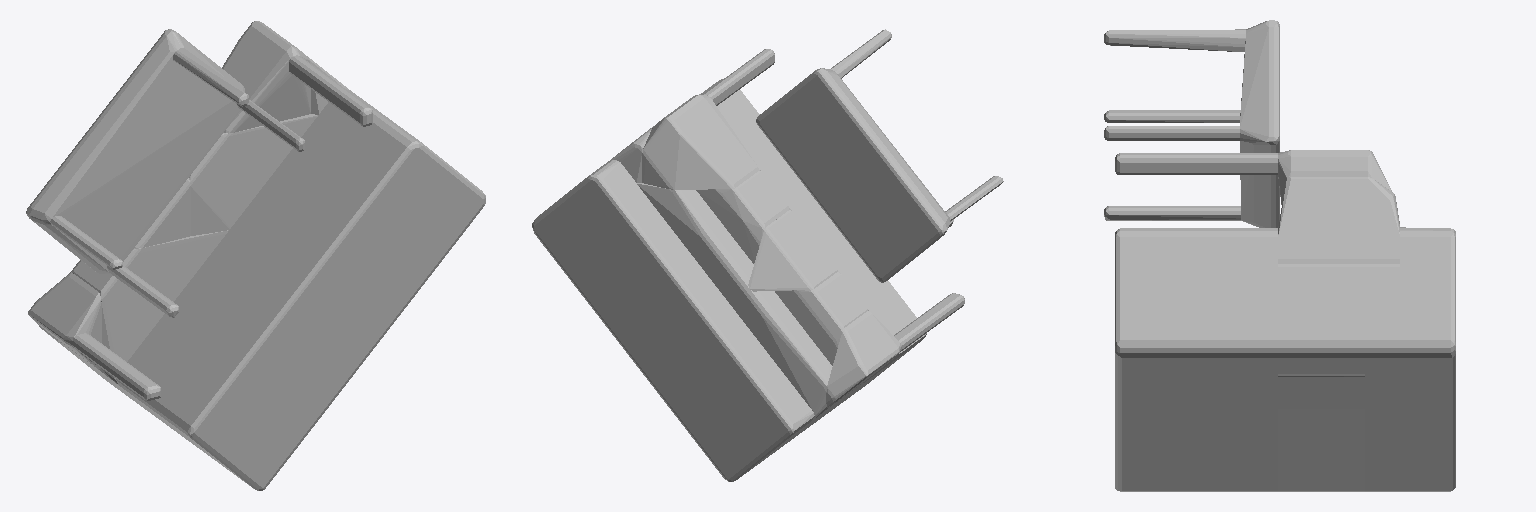
The robot description file, URDF, robot "root":
<robot name="root">
  <link name="link_coacd_convex_piece_0">
    <inertial>
      <origin xyz="0 0 0" rpy="0 0 0"/>
      <inertia ixx="4.72E-02" ixy="1.17E-02" ixz="1.36E-02" iyy="4.71E-02" iyz="1.44E-02" izz="4.85E-02"/>
    </inertial>
    <visual>
      <origin xyz="0 0 0" rpy="0 0 0"/>
      <geometry>
        <mesh filename="coacd_convex_piece_0.obj" scale="1.0000E+00 1.0000E+00 1.0000E+00"/>
      </geometry>
      <material name="">
        <color rgba="7.50E-01 7.50E-01 7.50E-01 1"/>
      </material>
    </visual>
    <collision>
      <origin xyz="0 0 0" rpy="0 0 0"/>
      <geometry>
        <mesh filename="coacd_convex_piece_0.obj" scale="1.0000E+00 1.0000E+00 1.0000E+00"/>
      </geometry>
    </collision>
  </link>
  <link name="link_coacd_convex_piece_1">
    <inertial>
      <origin xyz="0 0 0" rpy="0 0 0"/>
      <inertia ixx="5.15E-03" ixy="-3.08E-03" ixz="-5.63E-04" iyy="4.97E-03" iyz="-5.69E-04" izz="9.88E-03"/>
    </inertial>
    <visual>
      <origin xyz="0 0 0" rpy="0 0 0"/>
      <geometry>
        <mesh filename="coacd_convex_piece_1.obj" scale="1.0000E+00 1.0000E+00 1.0000E+00"/>
      </geometry>
      <material name="">
        <color rgba="7.50E-01 7.50E-01 7.50E-01 1"/>
      </material>
    </visual>
    <collision>
      <origin xyz="0 0 0" rpy="0 0 0"/>
      <geometry>
        <mesh filename="coacd_convex_piece_1.obj" scale="1.0000E+00 1.0000E+00 1.0000E+00"/>
      </geometry>
    </collision>
  </link>
  <joint name="link_coacd_convex_piece_1_joint" type="fixed">
    <origin xyz="0 0 0" rpy="0 0 0"/>
    <parent link="link_coacd_convex_piece_0"/>
    <child link="link_coacd_convex_piece_1"/>
  </joint>
  <link name="link_coacd_convex_piece_2">
    <inertial>
      <origin xyz="0 0 0" rpy="0 0 0"/>
      <inertia ixx="2.71E-02" ixy="3.94E-03" ixz="-7.13E-03" iyy="2.71E-02" iyz="-7.42E-03" izz="1.64E-02"/>
    </inertial>
    <visual>
      <origin xyz="0 0 0" rpy="0 0 0"/>
      <geometry>
        <mesh filename="coacd_convex_piece_2.obj" scale="1.0000E+00 1.0000E+00 1.0000E+00"/>
      </geometry>
      <material name="">
        <color rgba="7.50E-01 7.50E-01 7.50E-01 1"/>
      </material>
    </visual>
    <collision>
      <origin xyz="0 0 0" rpy="0 0 0"/>
      <geometry>
        <mesh filename="coacd_convex_piece_2.obj" scale="1.0000E+00 1.0000E+00 1.0000E+00"/>
      </geometry>
    </collision>
  </link>
  <joint name="link_coacd_convex_piece_2_joint" type="fixed">
    <origin xyz="0 0 0" rpy="0 0 0"/>
    <parent link="link_coacd_convex_piece_1"/>
    <child link="link_coacd_convex_piece_2"/>
  </joint>
  <link name="link_coacd_convex_piece_3">
    <inertial>
      <origin xyz="0 0 0" rpy="0 0 0"/>
      <inertia ixx="7.41E-04" ixy="1.13E-03" ixz="5.20E-04" iyy="1.67E-03" iyz="-2.93E-04" izz="2.01E-03"/>
    </inertial>
    <visual>
      <origin xyz="0 0 0" rpy="0 0 0"/>
      <geometry>
        <mesh filename="coacd_convex_piece_3.obj" scale="1.0000E+00 1.0000E+00 1.0000E+00"/>
      </geometry>
      <material name="">
        <color rgba="7.50E-01 7.50E-01 7.50E-01 1"/>
      </material>
    </visual>
    <collision>
      <origin xyz="0 0 0" rpy="0 0 0"/>
      <geometry>
        <mesh filename="coacd_convex_piece_3.obj" scale="1.0000E+00 1.0000E+00 1.0000E+00"/>
      </geometry>
    </collision>
  </link>
  <joint name="link_coacd_convex_piece_3_joint" type="fixed">
    <origin xyz="0 0 0" rpy="0 0 0"/>
    <parent link="link_coacd_convex_piece_2"/>
    <child link="link_coacd_convex_piece_3"/>
  </joint>
  <link name="link_coacd_convex_piece_4">
    <inertial>
      <origin xyz="0 0 0" rpy="0 0 0"/>
      <inertia ixx="2.45E-04" ixy="2.84E-04" ixz="-2.02E-04" iyy="5.45E-04" iyz="1.27E-04" izz="5.35E-04"/>
    </inertial>
    <visual>
      <origin xyz="0 0 0" rpy="0 0 0"/>
      <geometry>
        <mesh filename="coacd_convex_piece_4.obj" scale="1.0000E+00 1.0000E+00 1.0000E+00"/>
      </geometry>
      <material name="">
        <color rgba="7.50E-01 7.50E-01 7.50E-01 1"/>
      </material>
    </visual>
    <collision>
      <origin xyz="0 0 0" rpy="0 0 0"/>
      <geometry>
        <mesh filename="coacd_convex_piece_4.obj" scale="1.0000E+00 1.0000E+00 1.0000E+00"/>
      </geometry>
    </collision>
  </link>
  <joint name="link_coacd_convex_piece_4_joint" type="fixed">
    <origin xyz="0 0 0" rpy="0 0 0"/>
    <parent link="link_coacd_convex_piece_3"/>
    <child link="link_coacd_convex_piece_4"/>
  </joint>
  <link name="link_coacd_convex_piece_5">
    <inertial>
      <origin xyz="0 0 0" rpy="0 0 0"/>
      <inertia ixx="1.92E-04" ixy="1.48E-05" ixz="5.39E-06" iyy="5.74E-05" iyz="-8.74E-05" izz="1.16E-04"/>
    </inertial>
    <visual>
      <origin xyz="0 0 0" rpy="0 0 0"/>
      <geometry>
        <mesh filename="coacd_convex_piece_5.obj" scale="1.0000E+00 1.0000E+00 1.0000E+00"/>
      </geometry>
      <material name="">
        <color rgba="7.50E-01 7.50E-01 7.50E-01 1"/>
      </material>
    </visual>
    <collision>
      <origin xyz="0 0 0" rpy="0 0 0"/>
      <geometry>
        <mesh filename="coacd_convex_piece_5.obj" scale="1.0000E+00 1.0000E+00 1.0000E+00"/>
      </geometry>
    </collision>
  </link>
  <joint name="link_coacd_convex_piece_5_joint" type="fixed">
    <origin xyz="0 0 0" rpy="0 0 0"/>
    <parent link="link_coacd_convex_piece_4"/>
    <child link="link_coacd_convex_piece_5"/>
  </joint>
  <link name="link_coacd_convex_piece_6">
    <inertial>
      <origin xyz="0 0 0" rpy="0 0 0"/>
      <inertia ixx="3.00E-03" ixy="2.02E-03" ixz="-6.09E-04" iyy="1.41E-03" iyz="1.13E-03" izz="3.35E-03"/>
    </inertial>
    <visual>
      <origin xyz="0 0 0" rpy="0 0 0"/>
      <geometry>
        <mesh filename="coacd_convex_piece_6.obj" scale="1.0000E+00 1.0000E+00 1.0000E+00"/>
      </geometry>
      <material name="">
        <color rgba="7.50E-01 7.50E-01 7.50E-01 1"/>
      </material>
    </visual>
    <collision>
      <origin xyz="0 0 0" rpy="0 0 0"/>
      <geometry>
        <mesh filename="coacd_convex_piece_6.obj" scale="1.0000E+00 1.0000E+00 1.0000E+00"/>
      </geometry>
    </collision>
  </link>
  <joint name="link_coacd_convex_piece_6_joint" type="fixed">
    <origin xyz="0 0 0" rpy="0 0 0"/>
    <parent link="link_coacd_convex_piece_5"/>
    <child link="link_coacd_convex_piece_6"/>
  </joint>
  <link name="link_coacd_convex_piece_7">
    <inertial>
      <origin xyz="0 0 0" rpy="0 0 0"/>
      <inertia ixx="1.30E-02" ixy="3.36E-03" ixz="-2.71E-03" iyy="1.29E-02" iyz="-3.63E-03" izz="1.14E-02"/>
    </inertial>
    <visual>
      <origin xyz="0 0 0" rpy="0 0 0"/>
      <geometry>
        <mesh filename="coacd_convex_piece_7.obj" scale="1.0000E+00 1.0000E+00 1.0000E+00"/>
      </geometry>
      <material name="">
        <color rgba="7.50E-01 7.50E-01 7.50E-01 1"/>
      </material>
    </visual>
    <collision>
      <origin xyz="0 0 0" rpy="0 0 0"/>
      <geometry>
        <mesh filename="coacd_convex_piece_7.obj" scale="1.0000E+00 1.0000E+00 1.0000E+00"/>
      </geometry>
    </collision>
  </link>
  <joint name="link_coacd_convex_piece_7_joint" type="fixed">
    <origin xyz="0 0 0" rpy="0 0 0"/>
    <parent link="link_coacd_convex_piece_6"/>
    <child link="link_coacd_convex_piece_7"/>
  </joint>
  <link name="link_coacd_convex_piece_8">
    <inertial>
      <origin xyz="0 0 0" rpy="0 0 0"/>
      <inertia ixx="1.62E-02" ixy="4.88E-03" ixz="8.56E-04" iyy="7.89E-03" iyz="-4.37E-03" izz="1.89E-02"/>
    </inertial>
    <visual>
      <origin xyz="0 0 0" rpy="0 0 0"/>
      <geometry>
        <mesh filename="coacd_convex_piece_8.obj" scale="1.0000E+00 1.0000E+00 1.0000E+00"/>
      </geometry>
      <material name="">
        <color rgba="7.50E-01 7.50E-01 7.50E-01 1"/>
      </material>
    </visual>
    <collision>
      <origin xyz="0 0 0" rpy="0 0 0"/>
      <geometry>
        <mesh filename="coacd_convex_piece_8.obj" scale="1.0000E+00 1.0000E+00 1.0000E+00"/>
      </geometry>
    </collision>
  </link>
  <joint name="link_coacd_convex_piece_8_joint" type="fixed">
    <origin xyz="0 0 0" rpy="0 0 0"/>
    <parent link="link_coacd_convex_piece_7"/>
    <child link="link_coacd_convex_piece_8"/>
  </joint>
  <link name="link_coacd_convex_piece_9">
    <inertial>
      <origin xyz="0 0 0" rpy="0 0 0"/>
      <inertia ixx="1.90E-03" ixy="4.18E-03" ixz="-2.48E-03" iyy="1.06E-02" iyz="1.49E-03" izz="9.56E-03"/>
    </inertial>
    <visual>
      <origin xyz="0 0 0" rpy="0 0 0"/>
      <geometry>
        <mesh filename="coacd_convex_piece_9.obj" scale="1.0000E+00 1.0000E+00 1.0000E+00"/>
      </geometry>
      <material name="">
        <color rgba="7.50E-01 7.50E-01 7.50E-01 1"/>
      </material>
    </visual>
    <collision>
      <origin xyz="0 0 0" rpy="0 0 0"/>
      <geometry>
        <mesh filename="coacd_convex_piece_9.obj" scale="1.0000E+00 1.0000E+00 1.0000E+00"/>
      </geometry>
    </collision>
  </link>
  <joint name="link_coacd_convex_piece_9_joint" type="fixed">
    <origin xyz="0 0 0" rpy="0 0 0"/>
    <parent link="link_coacd_convex_piece_8"/>
    <child link="link_coacd_convex_piece_9"/>
  </joint>
  <link name="link_coacd_convex_piece_10">
    <inertial>
      <origin xyz="0 0 0" rpy="0 0 0"/>
      <inertia ixx="6.26E-05" ixy="8.34E-05" ixz="1.73E-04" iyy="2.45E-04" iyz="5.58E-05" izz="-1.71E-05"/>
    </inertial>
    <visual>
      <origin xyz="0 0 0" rpy="0 0 0"/>
      <geometry>
        <mesh filename="coacd_convex_piece_10.obj" scale="1.0000E+00 1.0000E+00 1.0000E+00"/>
      </geometry>
      <material name="">
        <color rgba="7.50E-01 7.50E-01 7.50E-01 1"/>
      </material>
    </visual>
    <collision>
      <origin xyz="0 0 0" rpy="0 0 0"/>
      <geometry>
        <mesh filename="coacd_convex_piece_10.obj" scale="1.0000E+00 1.0000E+00 1.0000E+00"/>
      </geometry>
    </collision>
  </link>
  <joint name="link_coacd_convex_piece_10_joint" type="fixed">
    <origin xyz="0 0 0" rpy="0 0 0"/>
    <parent link="link_coacd_convex_piece_9"/>
    <child link="link_coacd_convex_piece_10"/>
  </joint>
  <link name="link_coacd_convex_piece_11">
    <inertial>
      <origin xyz="0 0 0" rpy="0 0 0"/>
      <inertia ixx="5.13E-04" ixy="2.63E-04" ixz="1.20E-04" iyy="2.34E-04" iyz="-1.95E-04" izz="4.93E-04"/>
    </inertial>
    <visual>
      <origin xyz="0 0 0" rpy="0 0 0"/>
      <geometry>
        <mesh filename="coacd_convex_piece_11.obj" scale="1.0000E+00 1.0000E+00 1.0000E+00"/>
      </geometry>
      <material name="">
        <color rgba="7.50E-01 7.50E-01 7.50E-01 1"/>
      </material>
    </visual>
    <collision>
      <origin xyz="0 0 0" rpy="0 0 0"/>
      <geometry>
        <mesh filename="coacd_convex_piece_11.obj" scale="1.0000E+00 1.0000E+00 1.0000E+00"/>
      </geometry>
    </collision>
  </link>
  <joint name="link_coacd_convex_piece_11_joint" type="fixed">
    <origin xyz="0 0 0" rpy="0 0 0"/>
    <parent link="link_coacd_convex_piece_10"/>
    <child link="link_coacd_convex_piece_11"/>
  </joint>
  <link name="link_coacd_convex_piece_12">
    <inertial>
      <origin xyz="0 0 0" rpy="0 0 0"/>
      <inertia ixx="1.30E-03" ixy="1.42E-03" ixz="-5.82E-04" iyy="1.71E-03" iyz="5.66E-04" izz="2.36E-03"/>
    </inertial>
    <visual>
      <origin xyz="0 0 0" rpy="0 0 0"/>
      <geometry>
        <mesh filename="coacd_convex_piece_12.obj" scale="1.0000E+00 1.0000E+00 1.0000E+00"/>
      </geometry>
      <material name="">
        <color rgba="7.50E-01 7.50E-01 7.50E-01 1"/>
      </material>
    </visual>
    <collision>
      <origin xyz="0 0 0" rpy="0 0 0"/>
      <geometry>
        <mesh filename="coacd_convex_piece_12.obj" scale="1.0000E+00 1.0000E+00 1.0000E+00"/>
      </geometry>
    </collision>
  </link>
  <joint name="link_coacd_convex_piece_12_joint" type="fixed">
    <origin xyz="0 0 0" rpy="0 0 0"/>
    <parent link="link_coacd_convex_piece_11"/>
    <child link="link_coacd_convex_piece_12"/>
  </joint>
  <link name="link_coacd_convex_piece_13">
    <inertial>
      <origin xyz="0 0 0" rpy="0 0 0"/>
      <inertia ixx="6.10E-04" ixy="-1.32E-04" ixz="-5.85E-05" iyy="1.31E-04" iyz="-2.14E-04" izz="5.31E-04"/>
    </inertial>
    <visual>
      <origin xyz="0 0 0" rpy="0 0 0"/>
      <geometry>
        <mesh filename="coacd_convex_piece_13.obj" scale="1.0000E+00 1.0000E+00 1.0000E+00"/>
      </geometry>
      <material name="">
        <color rgba="7.50E-01 7.50E-01 7.50E-01 1"/>
      </material>
    </visual>
    <collision>
      <origin xyz="0 0 0" rpy="0 0 0"/>
      <geometry>
        <mesh filename="coacd_convex_piece_13.obj" scale="1.0000E+00 1.0000E+00 1.0000E+00"/>
      </geometry>
    </collision>
  </link>
  <joint name="link_coacd_convex_piece_13_joint" type="fixed">
    <origin xyz="0 0 0" rpy="0 0 0"/>
    <parent link="link_coacd_convex_piece_12"/>
    <child link="link_coacd_convex_piece_13"/>
  </joint>
  <link name="link_coacd_convex_piece_14">
    <inertial>
      <origin xyz="0 0 0" rpy="0 0 0"/>
      <inertia ixx="6.96E-05" ixy="1.43E-05" ixz="-1.07E-04" iyy="2.34E-04" iyz="4.19E-06" izz="1.36E-04"/>
    </inertial>
    <visual>
      <origin xyz="0 0 0" rpy="0 0 0"/>
      <geometry>
        <mesh filename="coacd_convex_piece_14.obj" scale="1.0000E+00 1.0000E+00 1.0000E+00"/>
      </geometry>
      <material name="">
        <color rgba="7.50E-01 7.50E-01 7.50E-01 1"/>
      </material>
    </visual>
    <collision>
      <origin xyz="0 0 0" rpy="0 0 0"/>
      <geometry>
        <mesh filename="coacd_convex_piece_14.obj" scale="1.0000E+00 1.0000E+00 1.0000E+00"/>
      </geometry>
    </collision>
  </link>
  <joint name="link_coacd_convex_piece_14_joint" type="fixed">
    <origin xyz="0 0 0" rpy="0 0 0"/>
    <parent link="link_coacd_convex_piece_13"/>
    <child link="link_coacd_convex_piece_14"/>
  </joint>
  <link name="link_coacd_convex_piece_15">
    <inertial>
      <origin xyz="0 0 0" rpy="0 0 0"/>
      <inertia ixx="8.31E-05" ixy="-7.64E-05" ixz="-1.26E-04" iyy="3.35E-04" iyz="-3.77E-05" izz="2.84E-04"/>
    </inertial>
    <visual>
      <origin xyz="0 0 0" rpy="0 0 0"/>
      <geometry>
        <mesh filename="coacd_convex_piece_15.obj" scale="1.0000E+00 1.0000E+00 1.0000E+00"/>
      </geometry>
      <material name="">
        <color rgba="7.50E-01 7.50E-01 7.50E-01 1"/>
      </material>
    </visual>
    <collision>
      <origin xyz="0 0 0" rpy="0 0 0"/>
      <geometry>
        <mesh filename="coacd_convex_piece_15.obj" scale="1.0000E+00 1.0000E+00 1.0000E+00"/>
      </geometry>
    </collision>
  </link>
  <joint name="link_coacd_convex_piece_15_joint" type="fixed">
    <origin xyz="0 0 0" rpy="0 0 0"/>
    <parent link="link_coacd_convex_piece_14"/>
    <child link="link_coacd_convex_piece_15"/>
  </joint>
</robot>

--- Facts derived from the render (not from the file) ---
Views: 3 orthographic renders of the robot side by side, from view 1: azimuth 30°, elevation 25°; view 2: azimuth 150°, elevation 25°; view 3: azimuth 270°, elevation 25°.
Model root with 16 links and 15 joints (15 fixed), rooted at link_coacd_convex_piece_0, posed every joint at zero.
Visible links, largest first — view 1: link_coacd_convex_piece_0, link_coacd_convex_piece_1, link_coacd_convex_piece_8, link_coacd_convex_piece_9, link_coacd_convex_piece_6, link_coacd_convex_piece_3, link_coacd_convex_piece_11, link_coacd_convex_piece_4, link_coacd_convex_piece_10, link_coacd_convex_piece_13, link_coacd_convex_piece_14, link_coacd_convex_piece_15 (+1 smaller); view 2: link_coacd_convex_piece_2, link_coacd_convex_piece_1, link_coacd_convex_piece_7, link_coacd_convex_piece_0, link_coacd_convex_piece_6, link_coacd_convex_piece_10, link_coacd_convex_piece_8, link_coacd_convex_piece_9, link_coacd_convex_piece_3, link_coacd_convex_piece_11, link_coacd_convex_piece_4, link_coacd_convex_piece_13 (+2 smaller); view 3: link_coacd_convex_piece_0, link_coacd_convex_piece_2, link_coacd_convex_piece_8, link_coacd_convex_piece_12, link_coacd_convex_piece_9, link_coacd_convex_piece_7, link_coacd_convex_piece_1, link_coacd_convex_piece_11, link_coacd_convex_piece_6, link_coacd_convex_piece_13, link_coacd_convex_piece_14, link_coacd_convex_piece_5 (+1 smaller).
Boxes of the visible links, x1,y1,x2,y2 form: link_coacd_convex_piece_0: (116,89,485,490); link_coacd_convex_piece_1: (26,29,244,273); link_coacd_convex_piece_8: (68,230,228,433); link_coacd_convex_piece_9: (189,114,317,235); link_coacd_convex_piece_6: (222,21,310,133); link_coacd_convex_piece_3: (28,272,101,368); link_coacd_convex_piece_11: (289,55,372,126); link_coacd_convex_piece_4: (73,333,160,400); link_coacd_convex_piece_10: (135,178,190,248); link_coacd_convex_piece_13: (173,48,248,106); link_coacd_convex_piece_14: (107,265,178,317); link_coacd_convex_piece_15: (50,216,122,269); link_coacd_convex_piece_2: (532,160,814,481); link_coacd_convex_piece_1: (756,68,950,282); link_coacd_convex_piece_7: (637,183,837,463); link_coacd_convex_piece_0: (701,78,926,427); link_coacd_convex_piece_6: (642,94,758,189); link_coacd_convex_piece_10: (748,210,837,291); link_coacd_convex_piece_8: (774,271,868,452); link_coacd_convex_piece_9: (696,170,790,263); link_coacd_convex_piece_3: (826,311,901,406); link_coacd_convex_piece_11: (703,49,774,105); link_coacd_convex_piece_4: (894,293,964,350); link_coacd_convex_piece_13: (831,29,891,78); link_coacd_convex_piece_0: (1115,228,1277,491); link_coacd_convex_piece_2: (1400,227,1455,491); link_coacd_convex_piece_8: (1278,376,1364,491); link_coacd_convex_piece_12: (1278,177,1399,263); link_coacd_convex_piece_9: (1278,264,1364,375); link_coacd_convex_piece_7: (1365,264,1400,491); link_coacd_convex_piece_1: (1240,20,1279,227); link_coacd_convex_piece_11: (1115,153,1277,174); link_coacd_convex_piece_6: (1278,150,1391,204); link_coacd_convex_piece_13: (1104,29,1245,51); link_coacd_convex_piece_14: (1104,206,1240,220); link_coacd_convex_piece_5: (1104,126,1239,140).
Size in the robot's own frame: 1.57 by 1.11 by 1.6 metres.
16 mesh visuals loaded from 16 distinct referenced files (16 OBJ).
